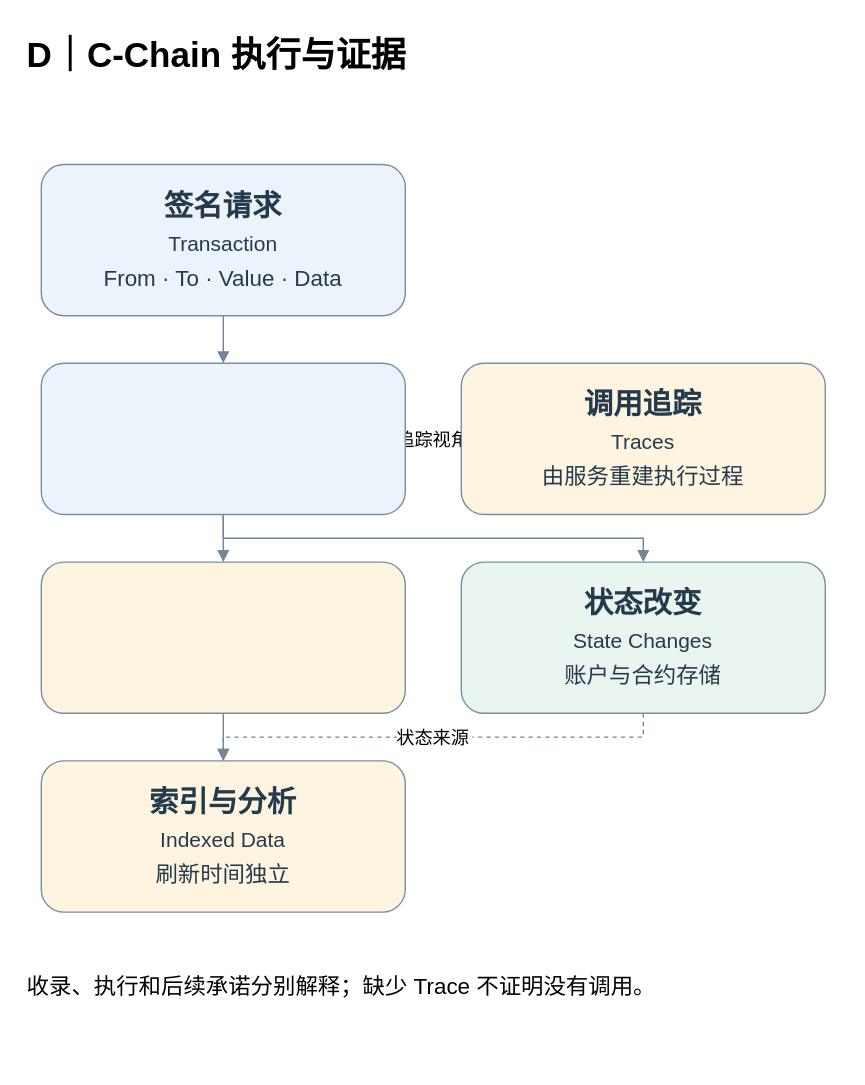
The diagram is 865 pixels wide and 1085 high, and some of its shapes have lost their labels. Each missing label, with the centre of its shape:
"按顺序执行 EVM Execution CE：在接受后的队列" belongs at [222,438].
"收据与保留日志 Receipt / Logs 结果与显式事件" belongs at [222,637].
